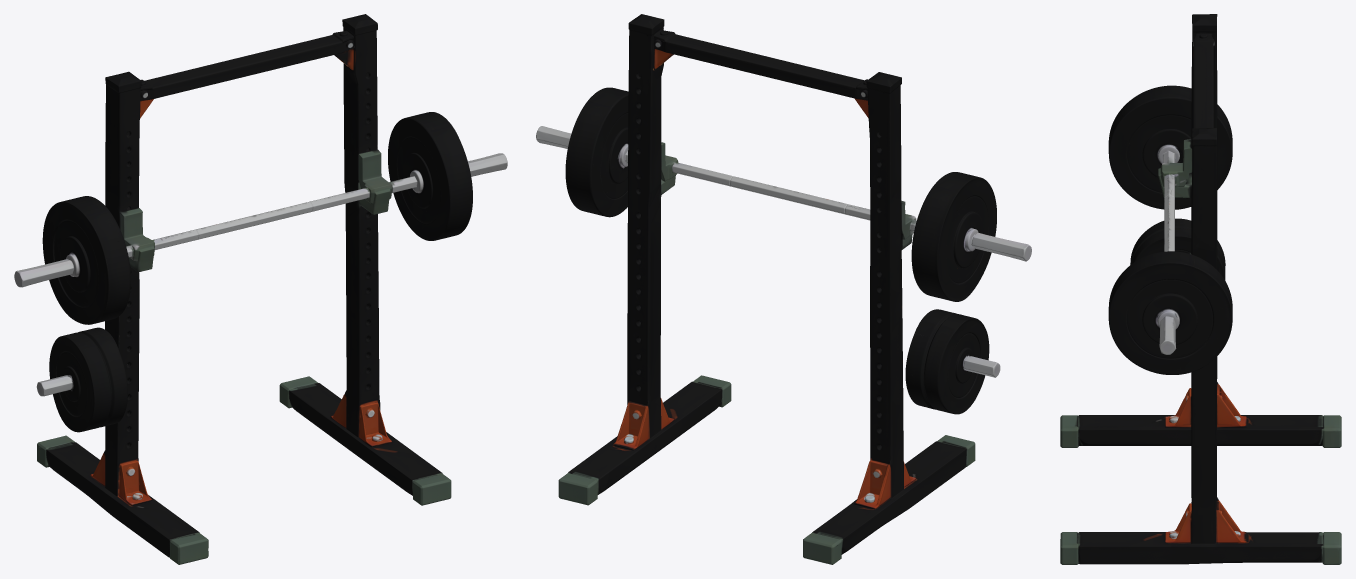
Rendered from barbell_rack__hunyuan.glb.
3 views of the same model, side by side, from view 1: azimuth 30°, elevation 25°; view 2: azimuth 150°, elevation 25°; view 3: azimuth 270°, elevation 25° (orthographic).
Visible parts, largest first — view 1: material; view 2: material; view 3: material.
Part boxes in pixels (x1,y1,x2,y2): material: (14, 14, 507, 564); material: (536, 14, 1031, 564); material: (1060, 14, 1341, 564).
Bounding box in the file's own units: 1.06 × 0.9002 × 0.5388.
1 material, 1 textured.
